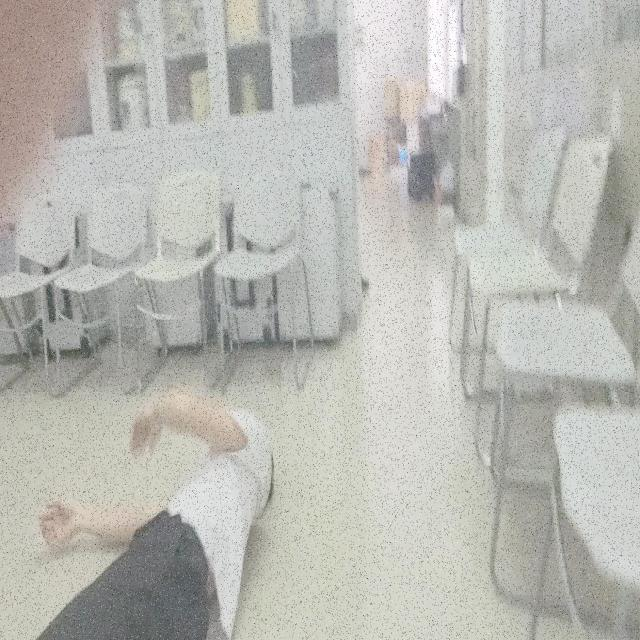fall: (29, 396, 278, 640)
